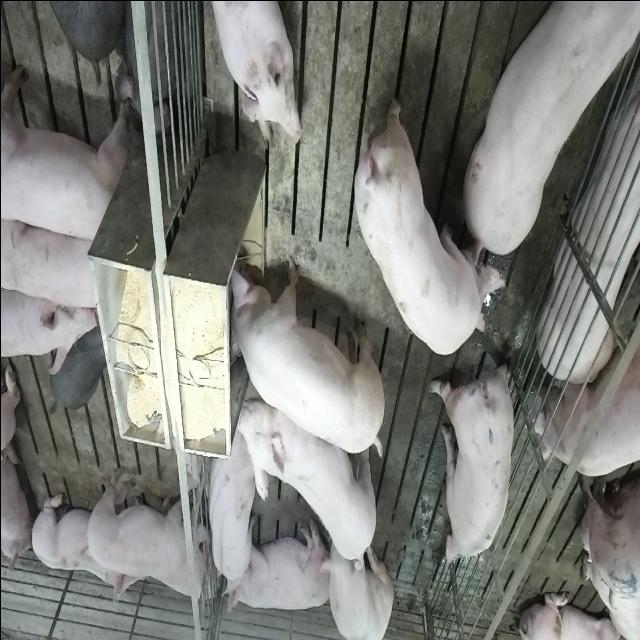Feeding: (220, 244, 382, 460)
Lateral_lying: (539, 29, 640, 387), (224, 514, 330, 614)
Sitting: (316, 512, 392, 638)
Standing: (466, 0, 640, 257), (355, 93, 508, 353), (239, 388, 381, 564), (2, 59, 132, 250), (430, 348, 516, 568), (535, 323, 640, 474), (84, 459, 212, 577), (2, 211, 102, 310), (0, 283, 101, 373)
Sternal_lying: (206, 0, 302, 146), (31, 486, 140, 610)
